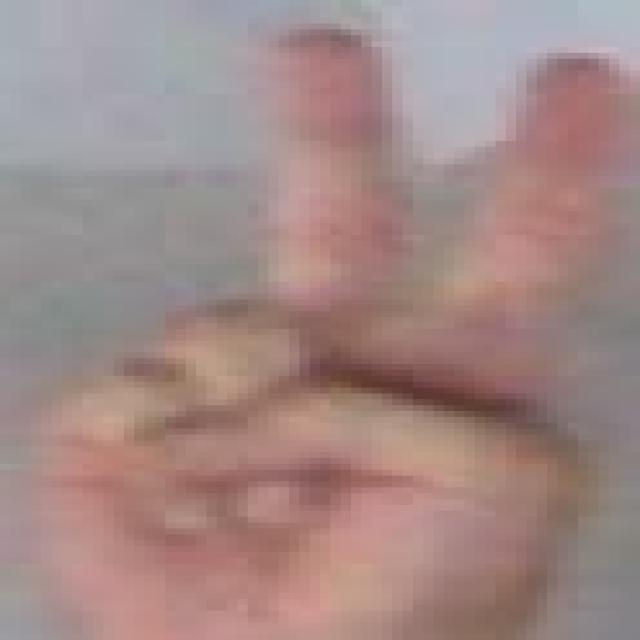V: (11, 6, 640, 640)
